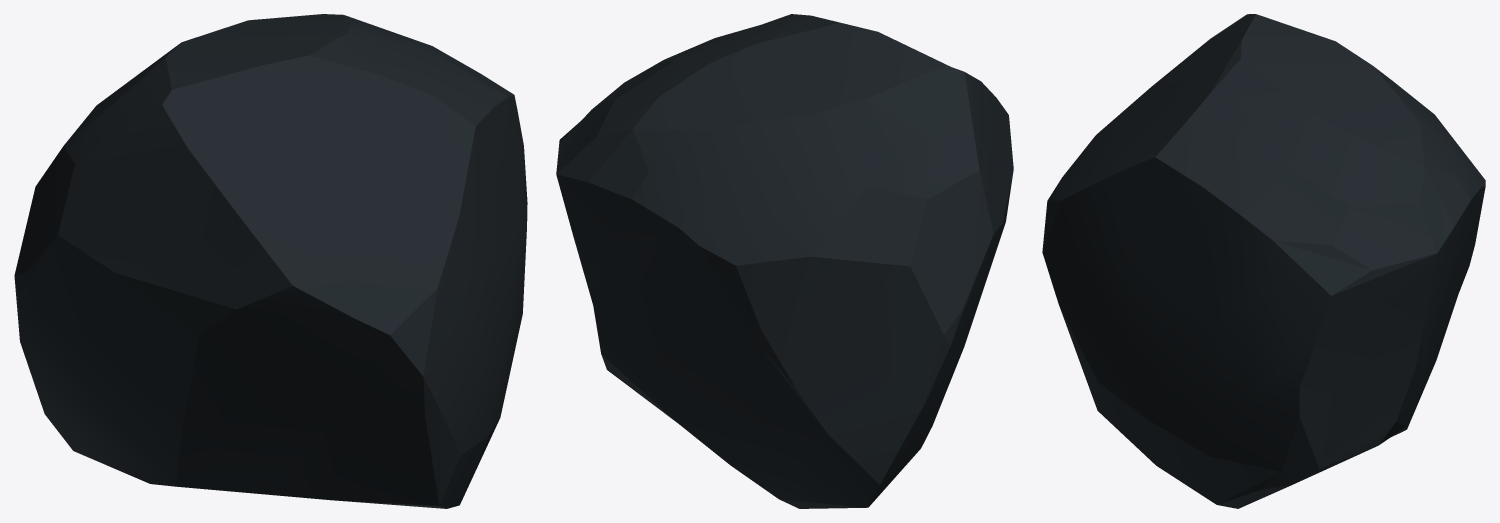
Rendered from Asteroid_s_30.FBX.
3 views of the same model, side by side, from view 1: azimuth 30°, elevation 25°; view 2: azimuth 150°, elevation 25°; view 3: azimuth 270°, elevation 25° (orthographic). The views are drawn at different scales.
Visible parts, largest first — view 1: Asteroid_s_30; view 2: Asteroid_s_30; view 3: Asteroid_s_30.
Boxes of the visible parts, <box> form: Asteroid_s_30: <box>14,14,527,508</box>; Asteroid_s_30: <box>556,14,1013,508</box>; Asteroid_s_30: <box>1042,14,1485,508</box>.
Size of the model in its own units: 145 by 139 by 140.
